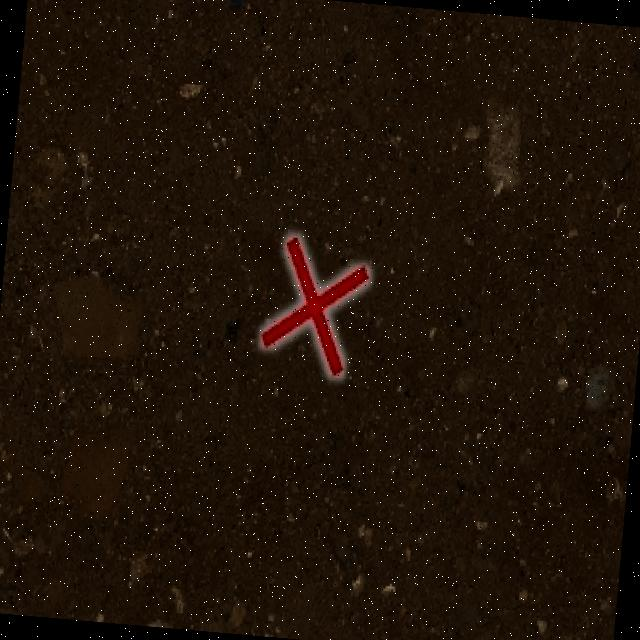x_marker: (259, 234, 370, 376)
